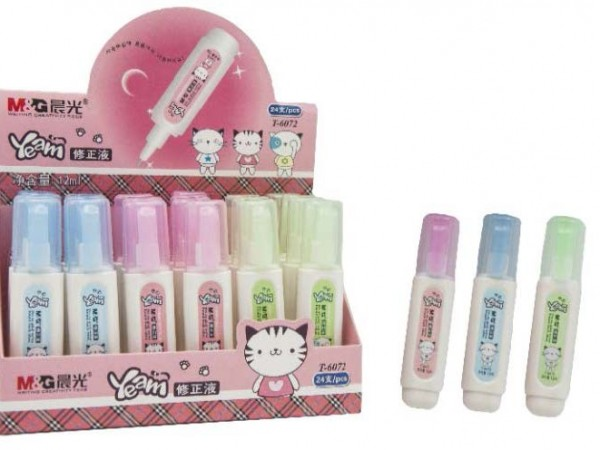Correction_fluid: (394, 209, 460, 413), (524, 211, 584, 419), (464, 210, 525, 413), (54, 195, 124, 355), (116, 194, 185, 356), (290, 191, 350, 357), (8, 196, 67, 358), (177, 199, 233, 349), (230, 200, 290, 338)
